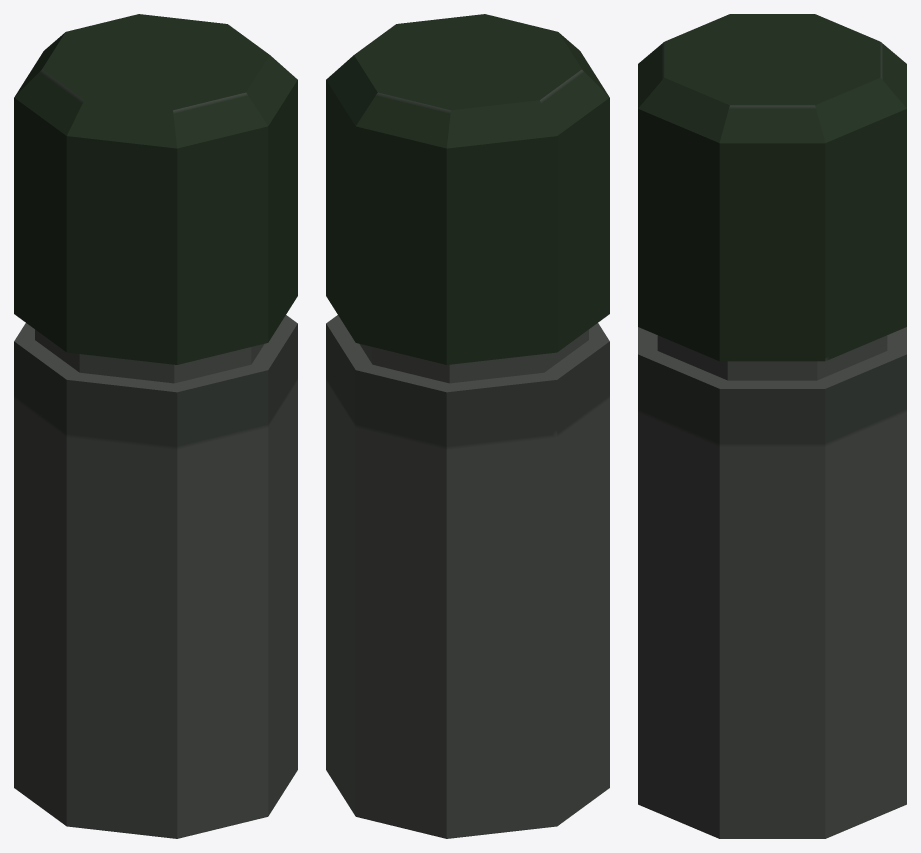
File: termos.obj
The picture shows the model from 3 angles, left to right: view 1: azimuth 30°, elevation 25°; view 2: azimuth 150°, elevation 25°; view 3: azimuth 270°, elevation 25°; orthographic projection.
Visible parts, largest first — view 1: Cube.010; view 2: Cube.010; view 3: Cube.010.
Boxes of the visible parts, bbox=[...] form: Cube.010: bbox=[14, 14, 297, 838]; Cube.010: bbox=[326, 14, 609, 838]; Cube.010: bbox=[638, 14, 906, 838].
Bounding box in the file's own units: 0.5321 × 1.58 × 0.5321.
Materials: 1 (1 with a texture image).
